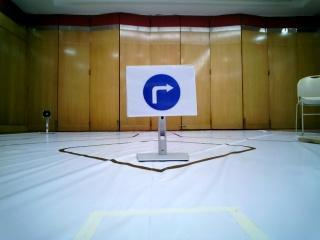right: (133, 69, 194, 118)
